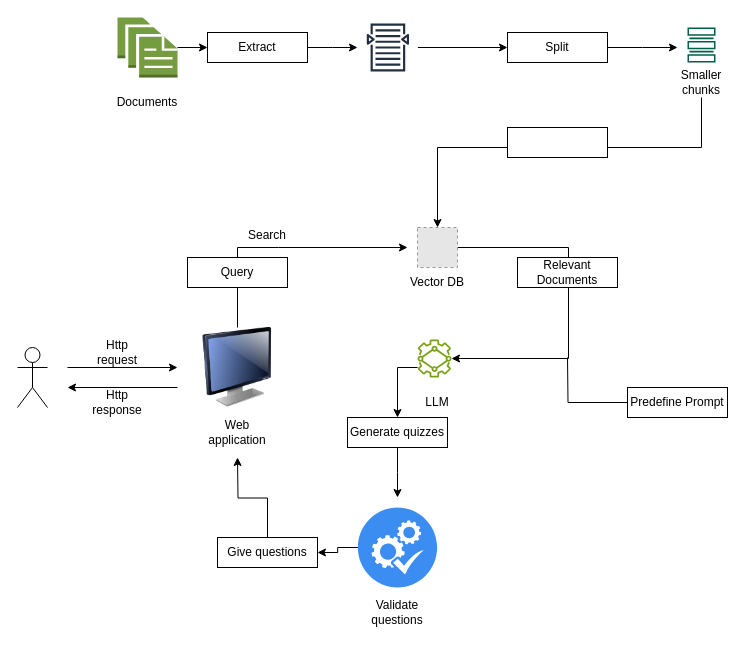
Some shapes in this 749 by 645 pixel diagram are drawn without their labels. Grey dashed boxes stand in for pictures. The box of each missing label's shape, as (x1, y1, x2, y2) in pixels:
Embed: (506, 126, 608, 158)
Extracted text: (357, 16, 418, 78)
User: (16, 346, 48, 408)
